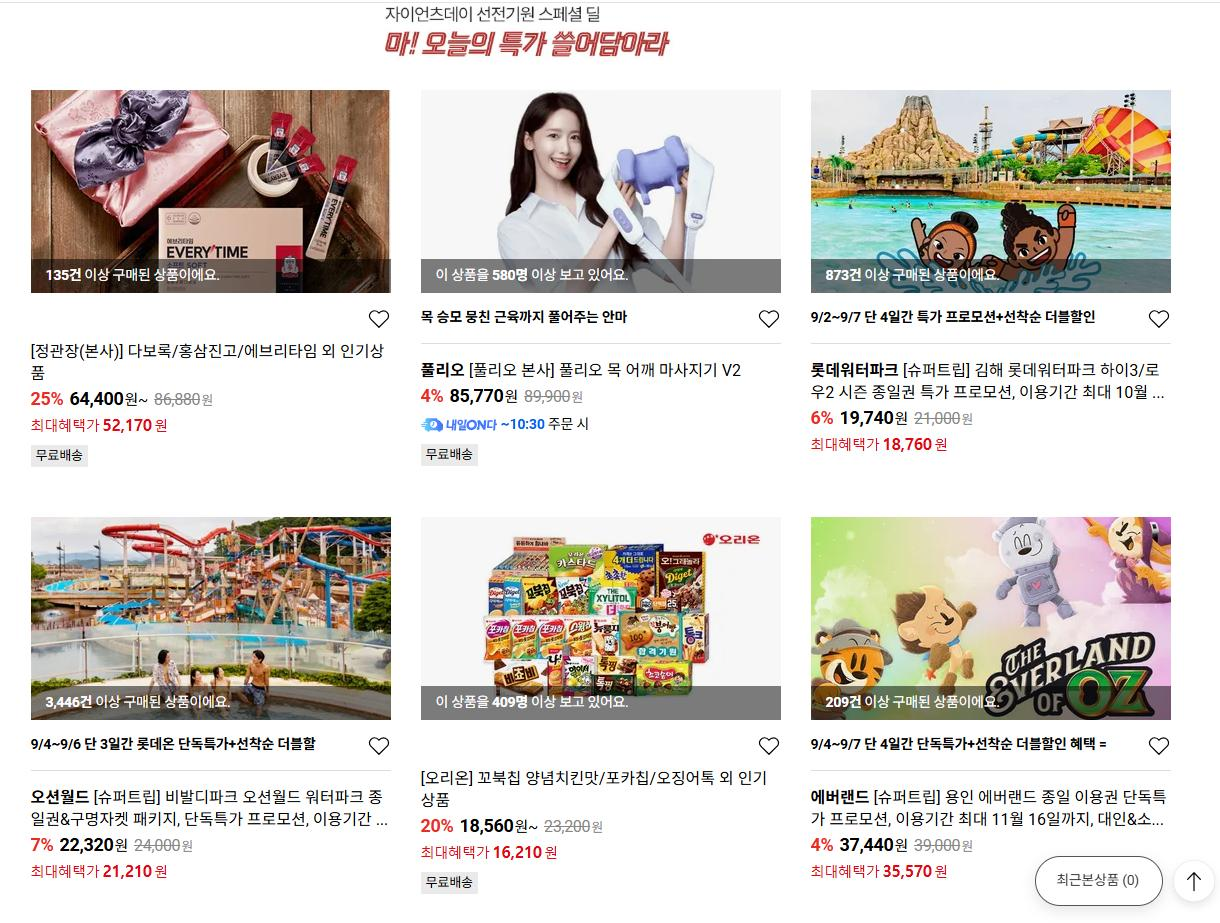button: (1033, 857, 1164, 898), (1181, 866, 1209, 888), (1149, 309, 1171, 334), (756, 731, 780, 751), (1146, 735, 1174, 752), (364, 311, 389, 328), (756, 306, 776, 326), (370, 736, 391, 754)
